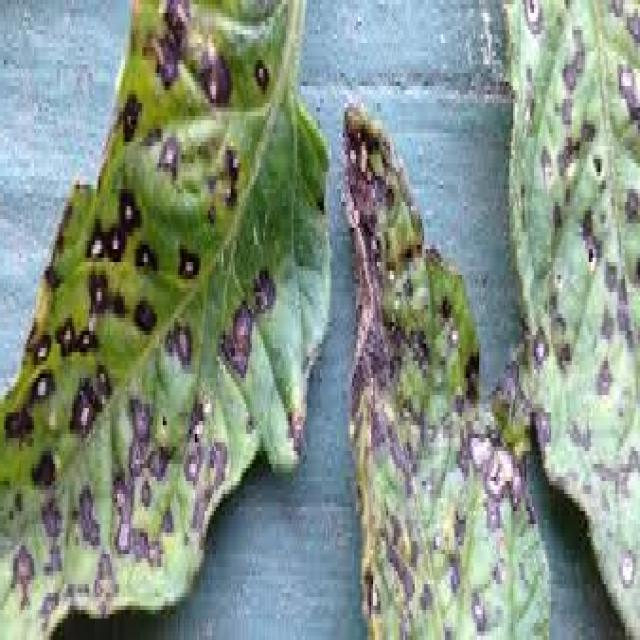black-spot: (88, 142, 296, 511), (358, 291, 474, 584)
